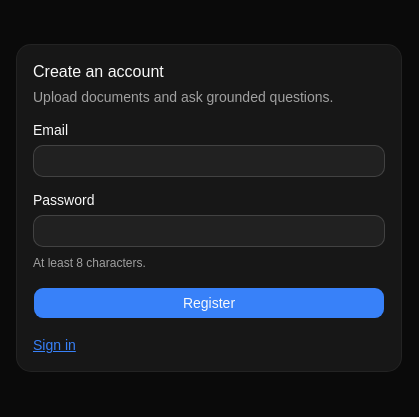
RegisterPage registration availability › explains access when the backend disables registration after the form loads
Type "reviewer@example.com" into the field labelled "Email" at (209, 161), box x1=33 y1=145 x2=385 y2=177
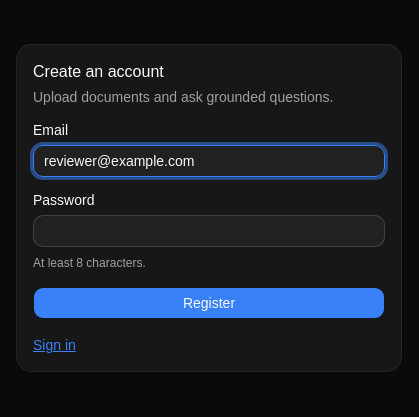
Type "test-password" into the password field labelled "Password" at (209, 231), box x1=33 y1=215 x2=385 y2=247
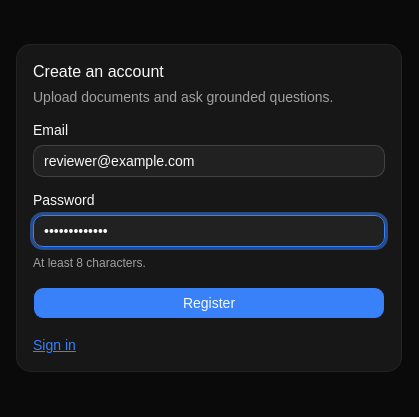
Click the button "Register" at (209, 303), box x1=33 y1=287 x2=385 y2=319
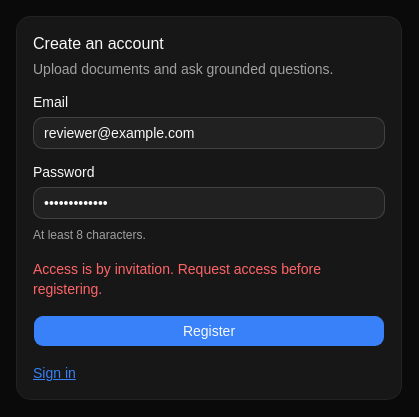
Expected: the message shows "Access is by invitation", x1=33 y1=261 x2=321 y2=297
